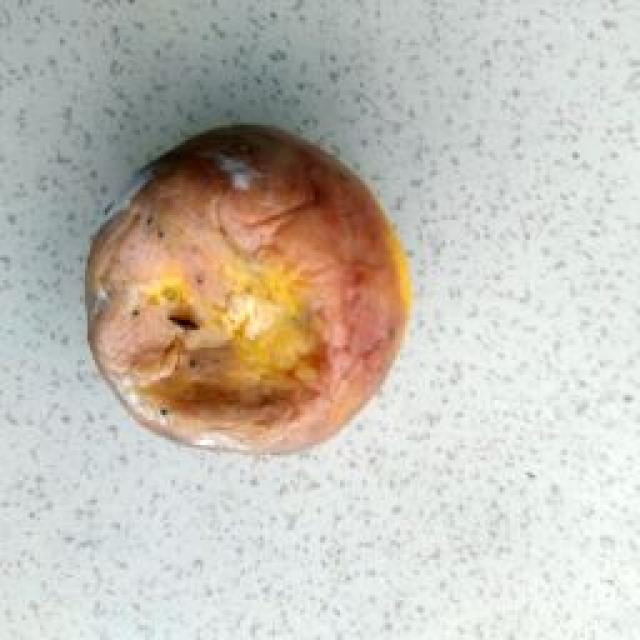Bad_Orange: (86, 128, 408, 452)
